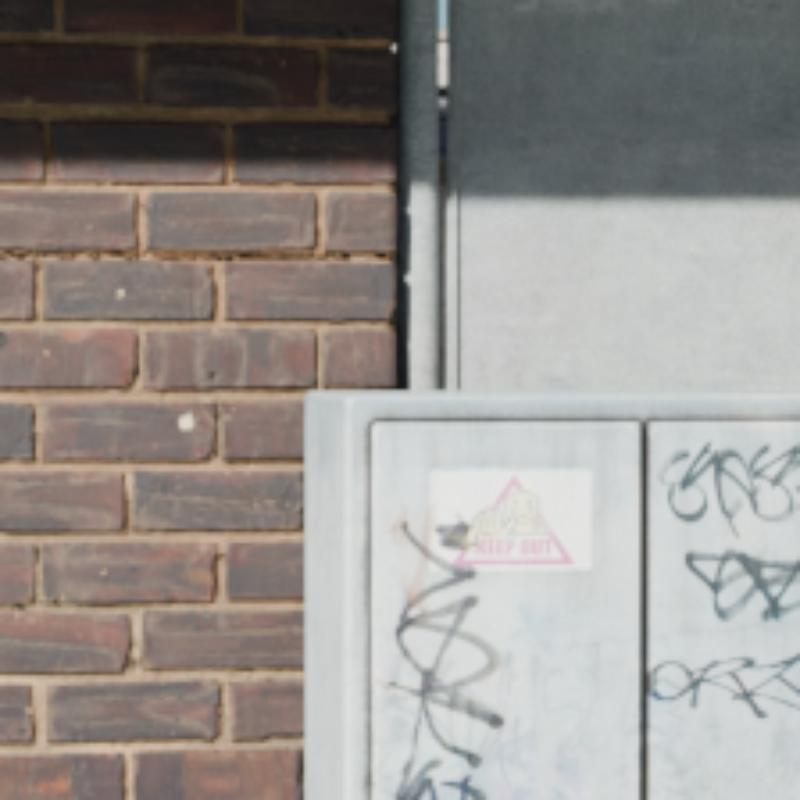pothole: (0, 250, 155, 257), (155, 254, 386, 257)
